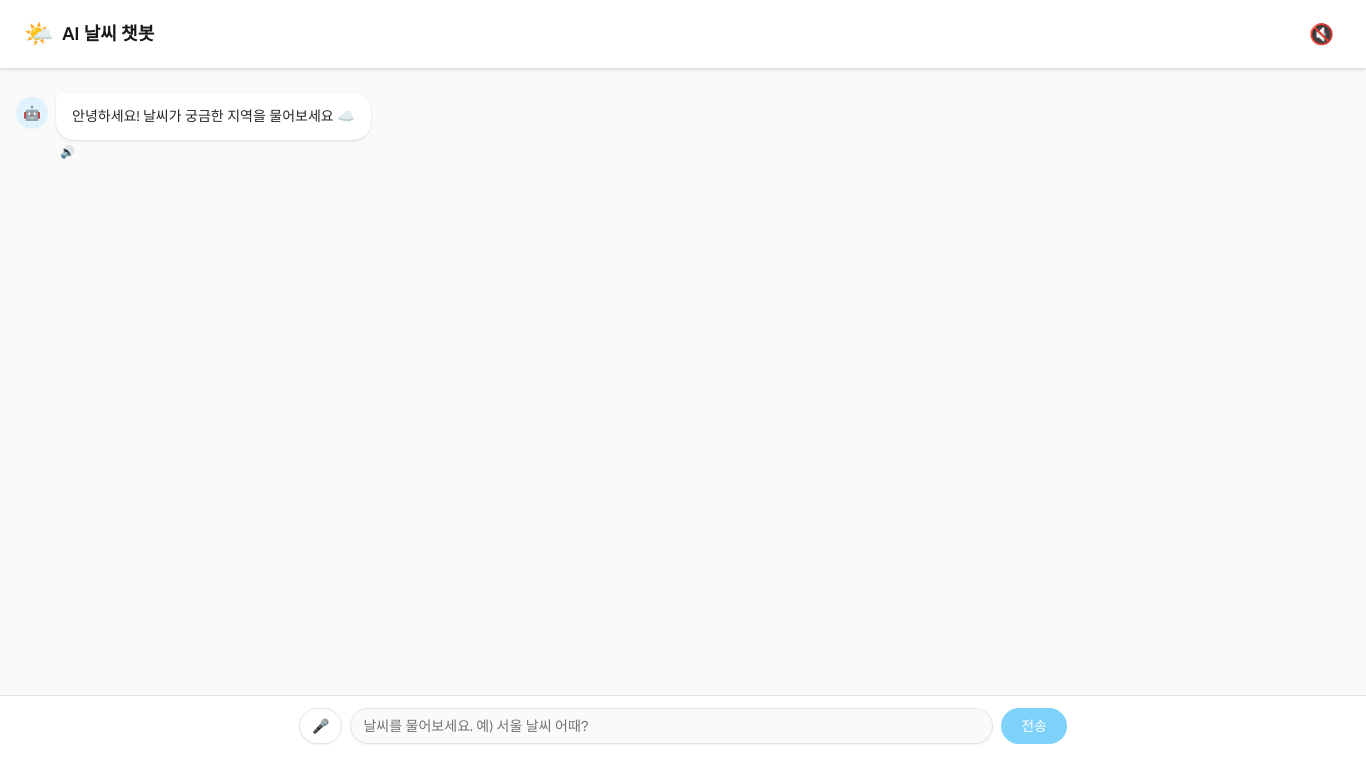
it: STT (음성 입력) › 음성 인식 중에는 버튼 레이블이 바뀐다
What coordinates should you click on to do the following:
click the button named "음성 입력 시작"
I would click on:
 (321, 726)
Its box is [299,708,342,744].
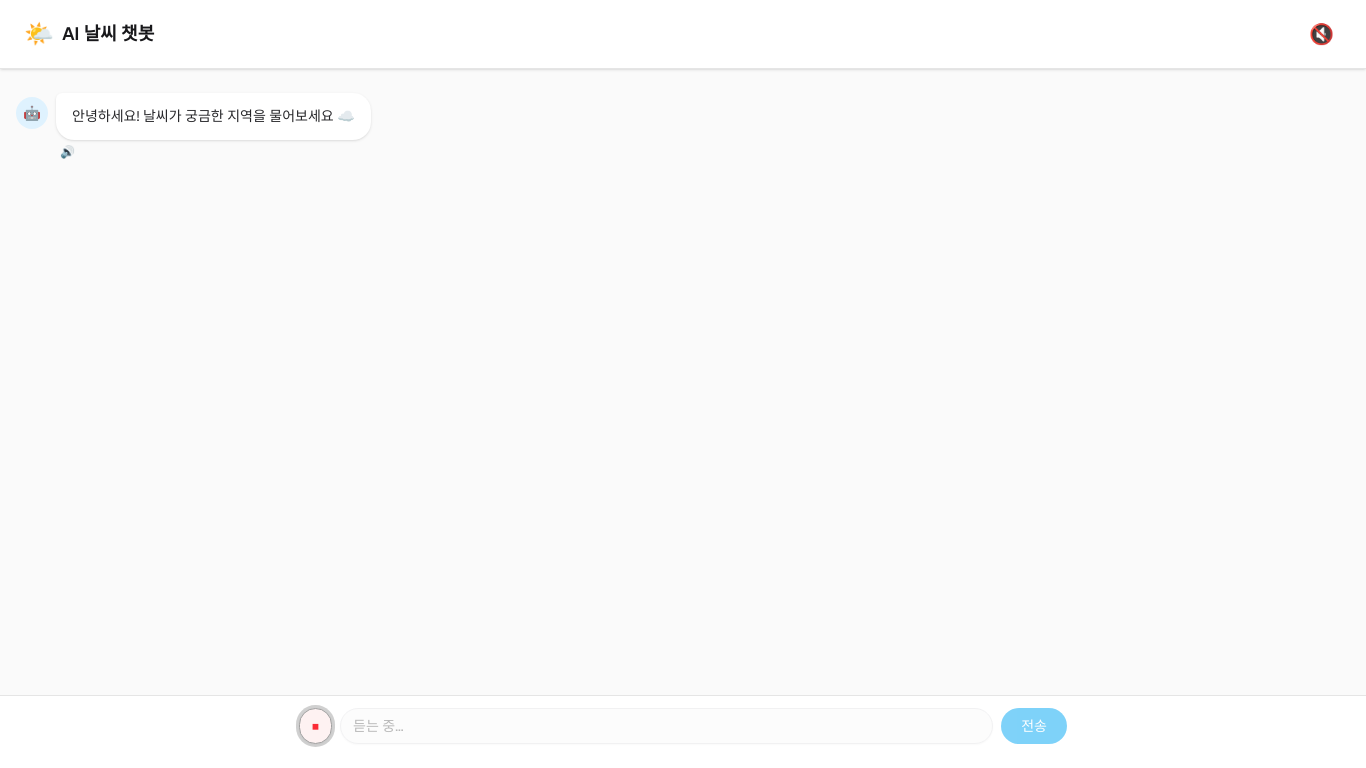
Expected: the button named "음성 인식 중지" is shown, [299,708,332,744]
